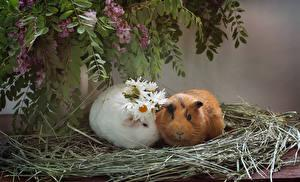chamomile: (130, 95, 150, 118), (145, 91, 163, 107)
